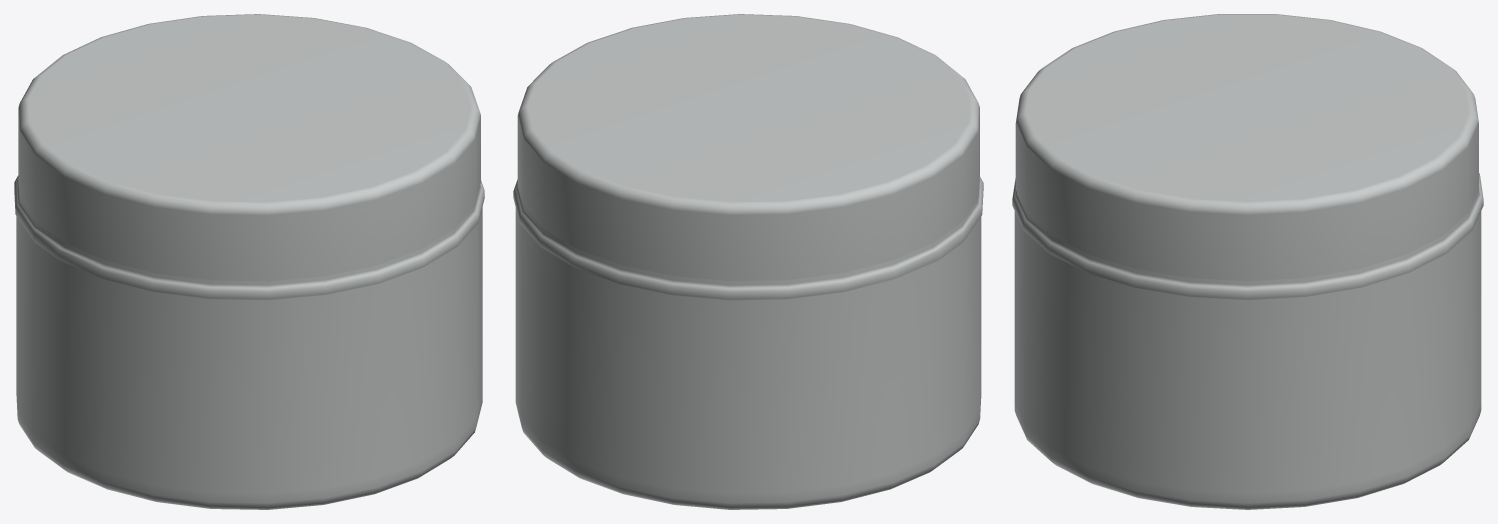
Rendered from Cocdungbogncau.fbx.
3 views of the same model, side by side, from view 1: azimuth 30°, elevation 25°; view 2: azimuth 150°, elevation 25°; view 3: azimuth 270°, elevation 25° (orthographic).
Parts seen in each view (by area): view 1: Than_Cocdungbongcau, Nap_Cocdungbongcau; view 2: Than_Cocdungbongcau, Nap_Cocdungbongcau; view 3: Than_Cocdungbongcau, Nap_Cocdungbongcau.
Boxes of the visible parts, <box> form: Than_Cocdungbongcau: <box>14,175,484,509</box>; Nap_Cocdungbongcau: <box>18,14,480,281</box>; Than_Cocdungbongcau: <box>513,176,983,509</box>; Nap_Cocdungbongcau: <box>517,14,979,280</box>; Than_Cocdungbongcau: <box>1012,173,1483,509</box>; Nap_Cocdungbongcau: <box>1015,14,1478,280</box>.
Size of the model in its own units: 11.35 by 8.18 by 11.37.
Materials: 1 (1 with a texture image).
